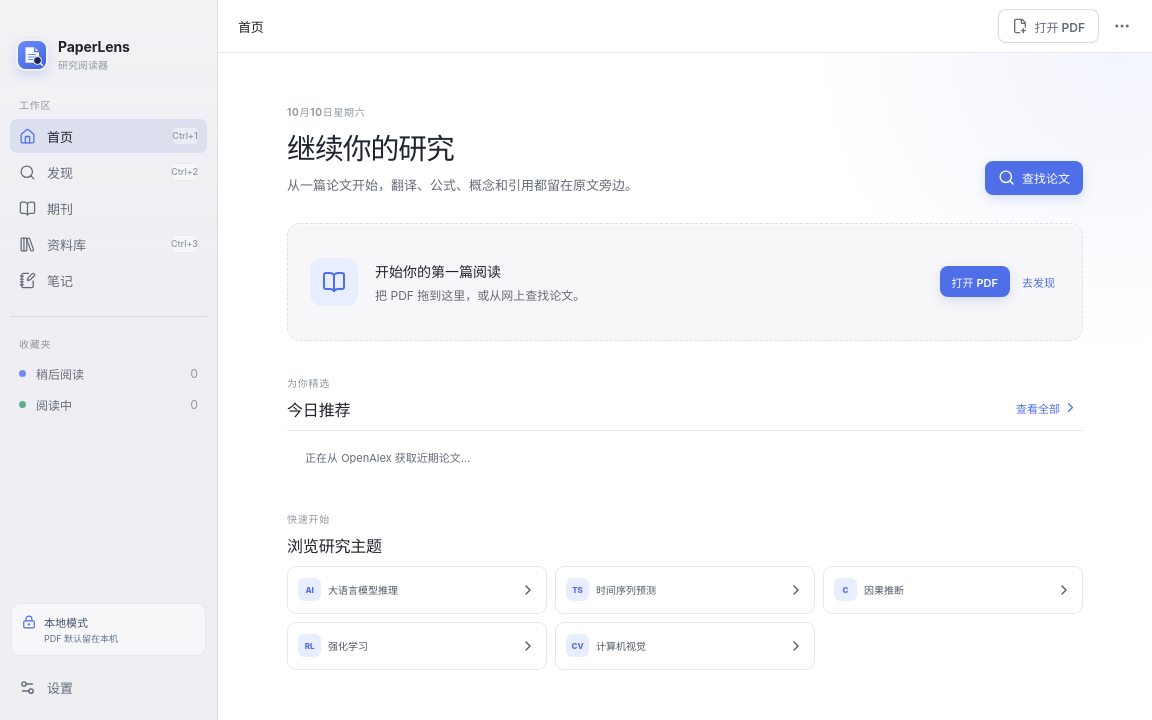
Scenario: responsive paper search › follows the best result until the user explicitly selects a paper
The width and height of the screenshot is (1152, 720).
Click the button "发现 Ctrl+2". click: coordinates (108, 172)
box: [10,155,207,189]
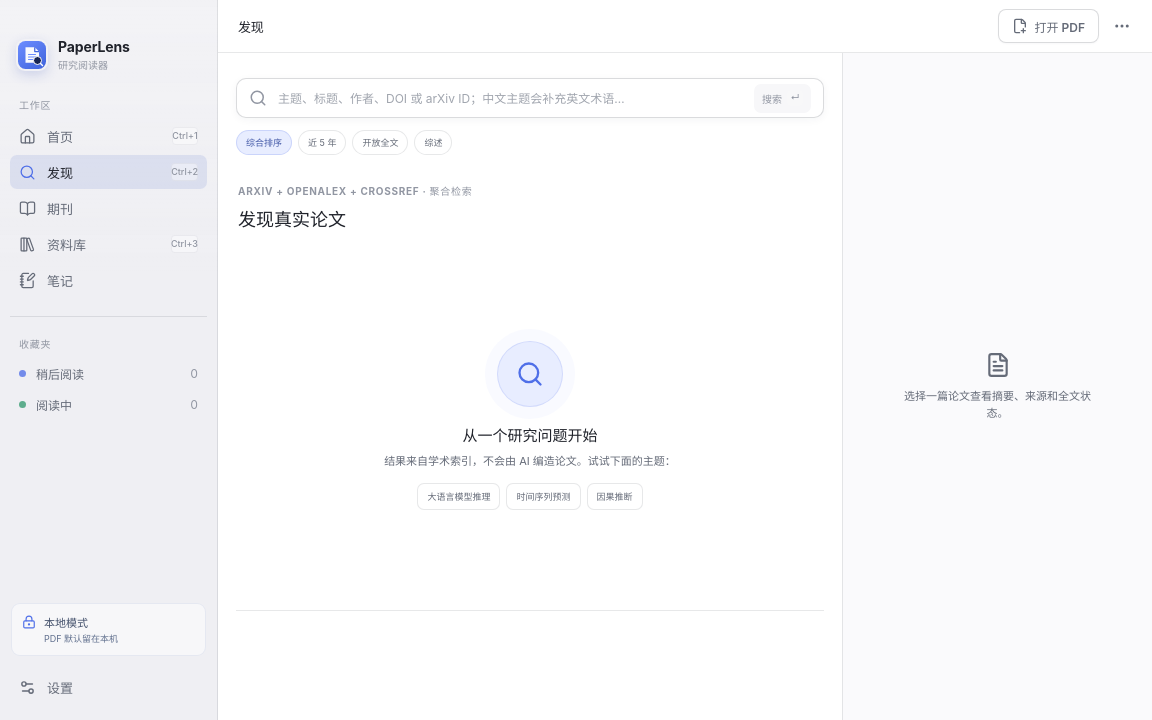
Type "attention is all you need" into the field named "搜索论文". click: coordinates (510, 98)
box: [276,79,745,117]
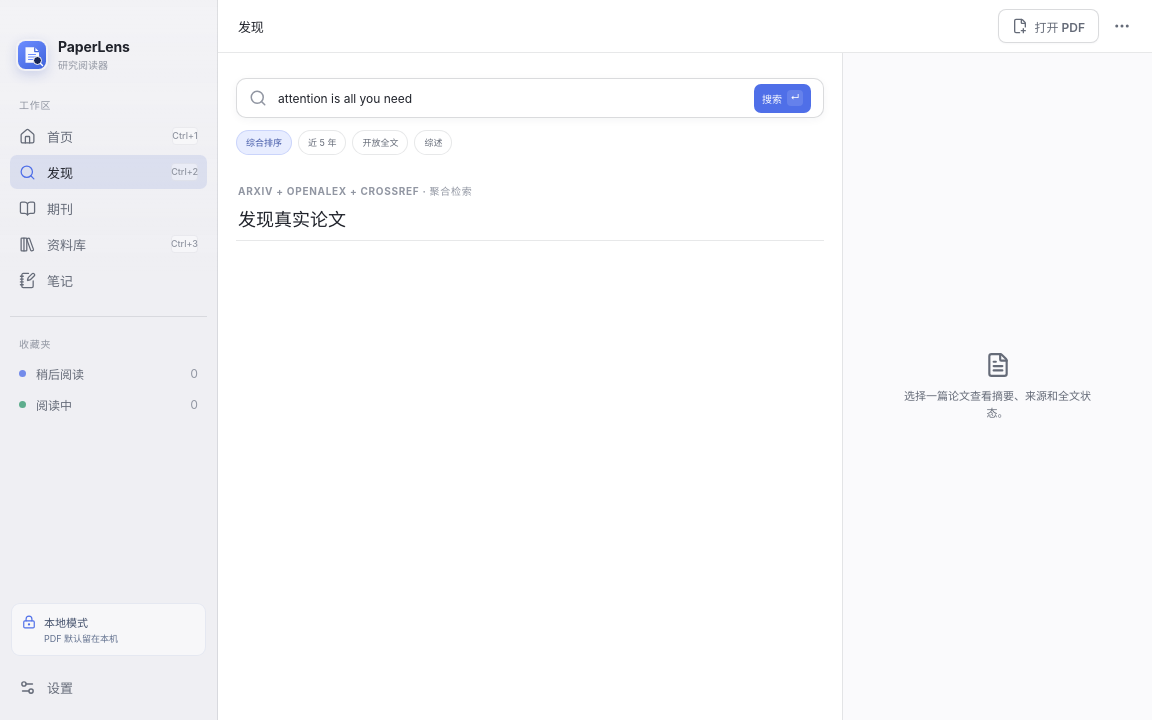
Click the button "搜索 ↵". click: coordinates (782, 98)
box: [754,84,811,112]
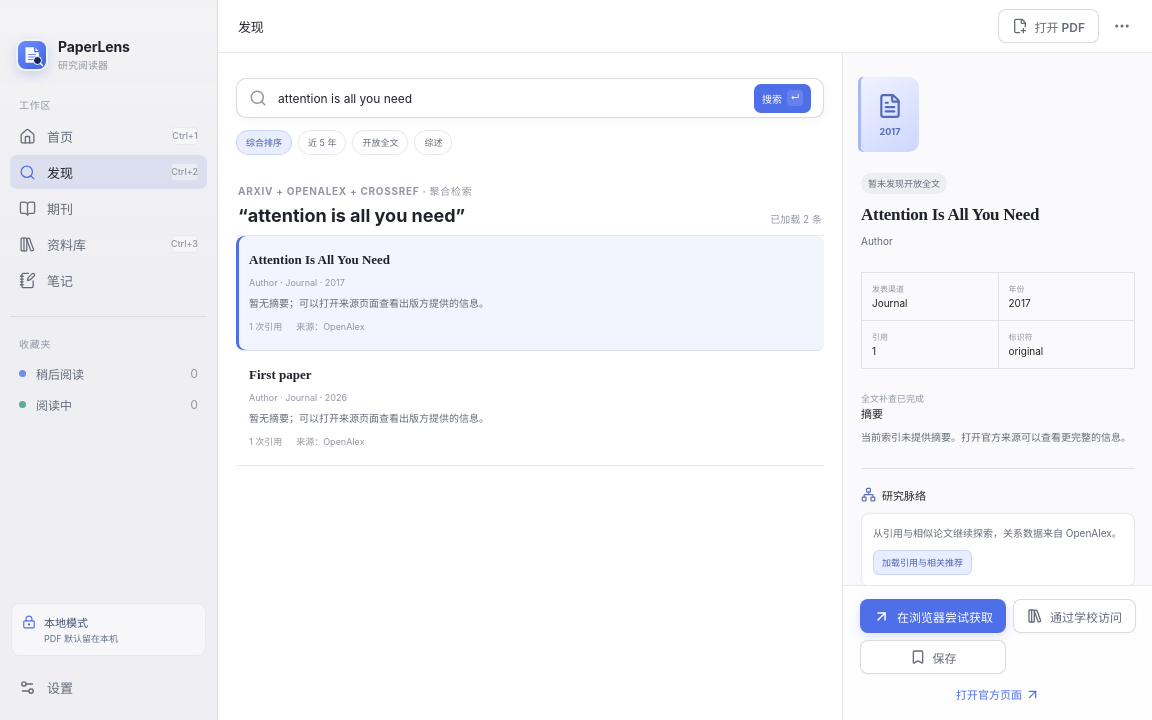
Expected: the heading "Attention Is All You Need" is shown, [861,205,1039,224]
